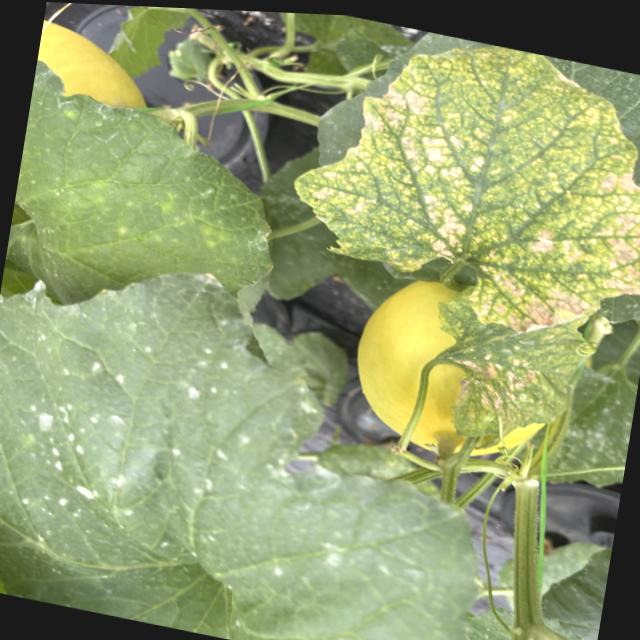downy mildew: (279, 12, 640, 356), (3, 68, 292, 328), (422, 290, 602, 459)
powdery mildew: (0, 241, 534, 640)
